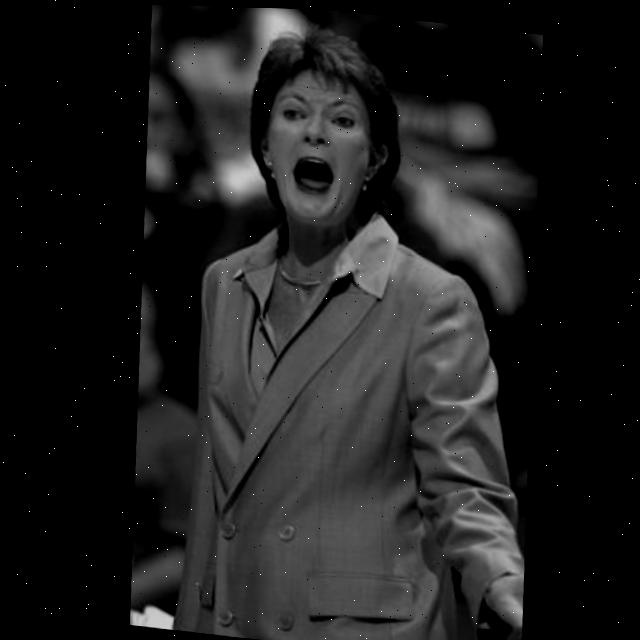face: (245, 61, 382, 250)
